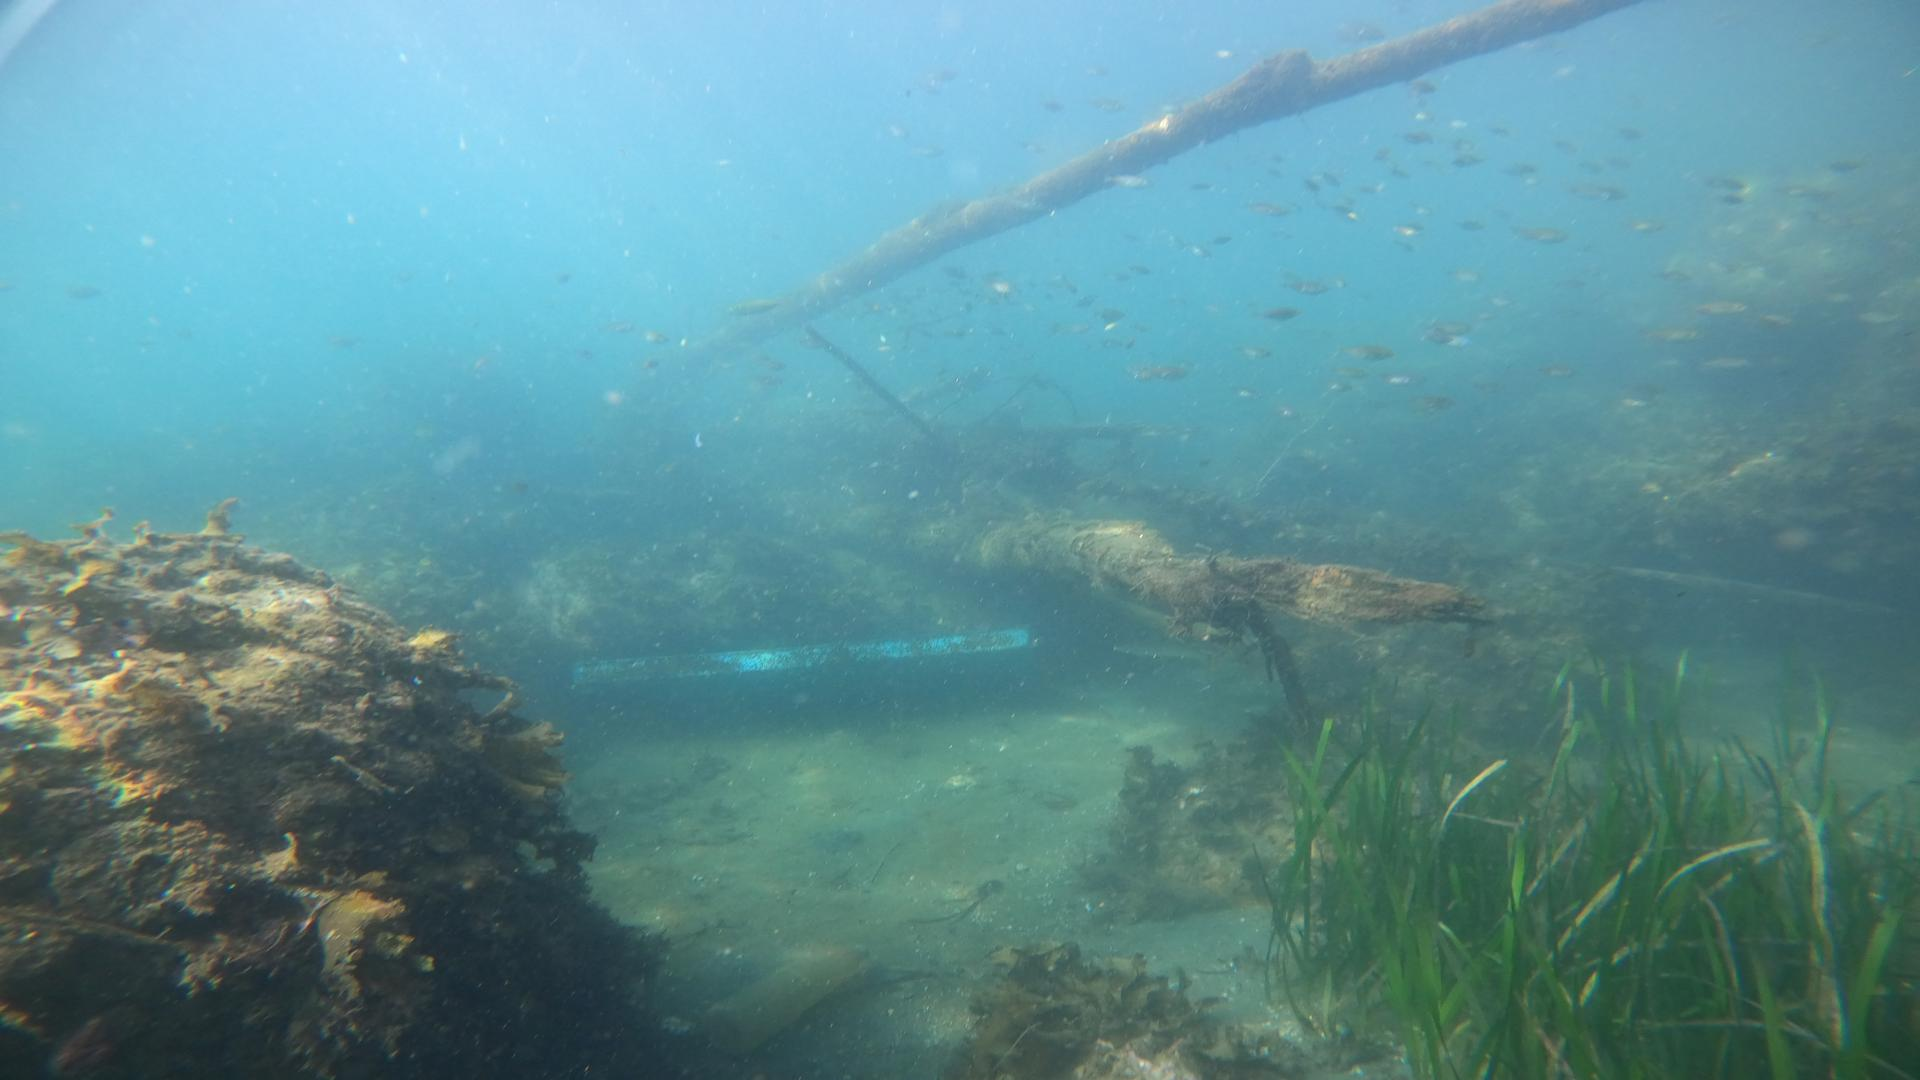wood: (682, 0, 1623, 363), (804, 496, 1481, 625)
